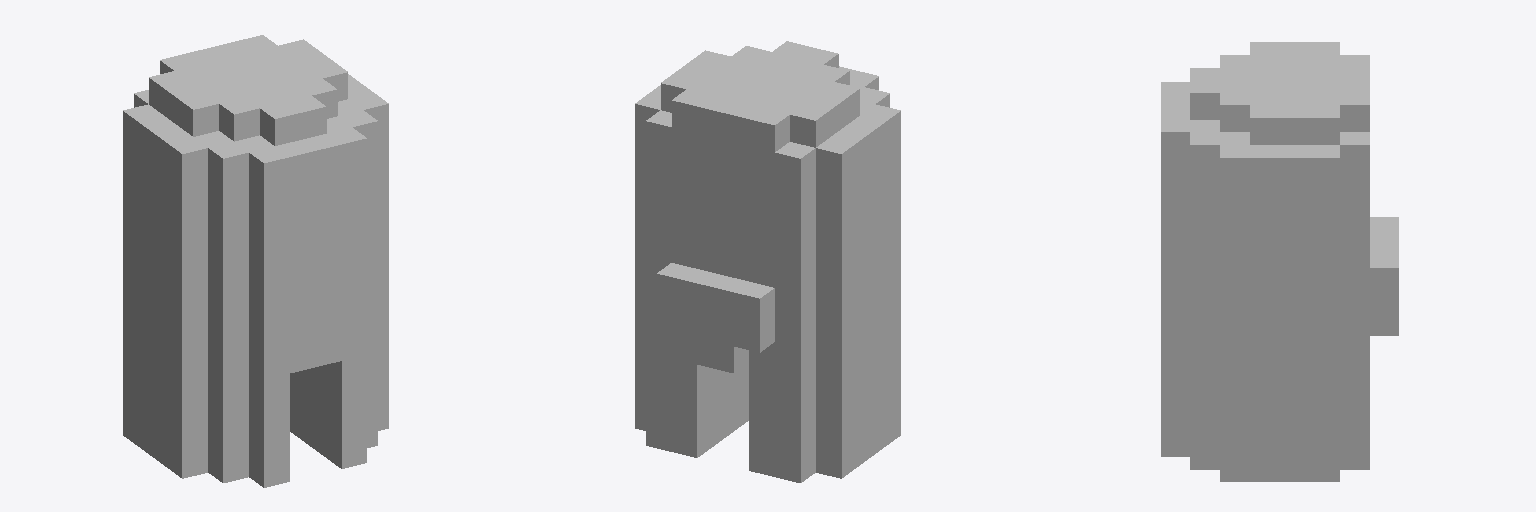
The model's file is player.obj.
3 views of the same model, side by side, from view 1: azimuth 30°, elevation 25°; view 2: azimuth 150°, elevation 25°; view 3: azimuth 270°, elevation 25° (orthographic).
Visible parts, largest first — view 1: object 1; view 2: object 1; view 3: object 1.
Part boxes in pixels (x1,y1,x2,y2): object 1: (123, 35, 388, 487); object 1: (635, 41, 900, 482); object 1: (1161, 42, 1398, 481).
Size of the model in its own units: 0.8 by 1.3 by 0.8.